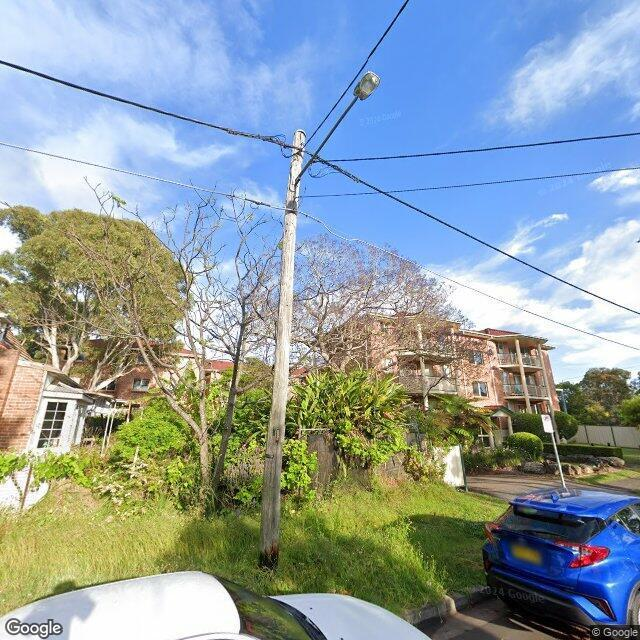streetlight: (295, 71, 382, 185)
timber-pole: (258, 128, 306, 570)
